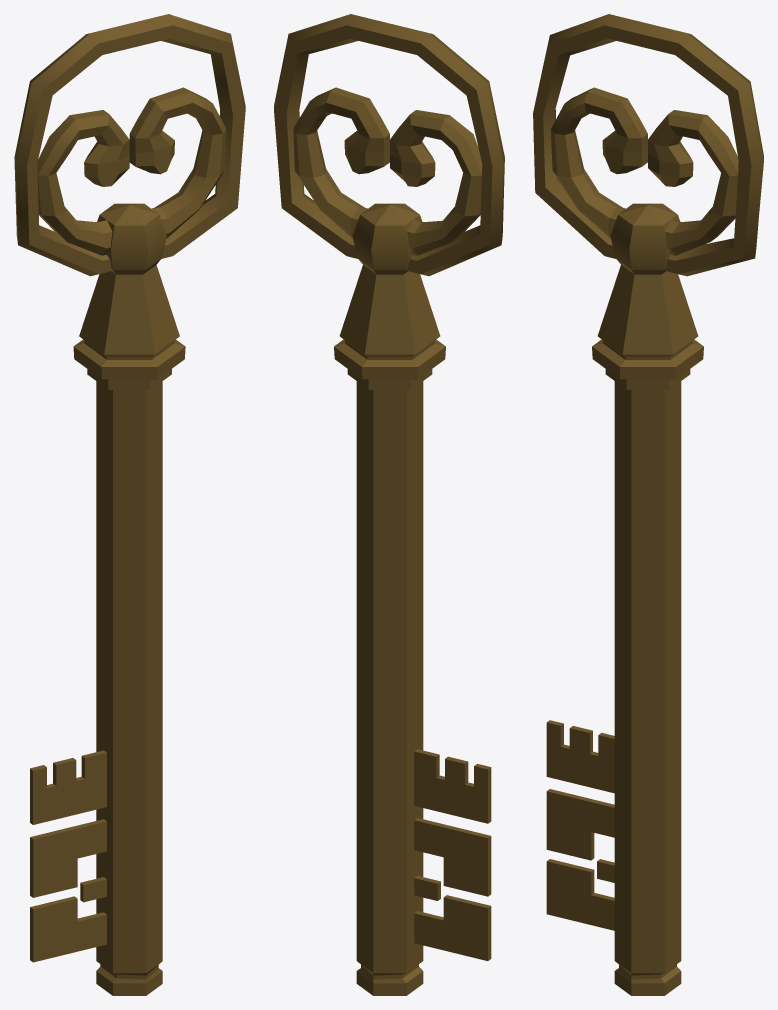
Rendered from Rusty Key.fbx.
3 views of the same model, side by side, from view 1: azimuth 30°, elevation 25°; view 2: azimuth 150°, elevation 25°; view 3: azimuth 330°, elevation 25° (orthographic).
Parts seen in each view (by area): view 1: Key_Body, Key_Ring, Key_Heart, Key_Hilt, Key_Lock1, Key_Lock7, Key_Lock2, Key_HiltSphere, Key_Lock3; view 2: Key_Body, Key_Ring, Key_Heart, Key_Hilt, Key_Lock1, Key_Lock7, Key_Lock2, Key_HiltSphere, Key_Lock3; view 3: Key_Body, Key_Ring, Key_Heart, Key_Hilt, Key_Lock1, Key_Lock7, Key_HiltSphere, Key_Lock2.
Boxes of the visible parts, left/top/right/bottom form: Key_Body: left=96, top=381, right=162, bottom=995; Key_Ring: left=14, top=14, right=245, bottom=276; Key_Heart: left=37, top=87, right=225, bottom=255; Key_Hilt: left=73, top=265, right=185, bottom=389; Key_Lock1: left=30, top=750, right=106, bottom=824; Key_Lock7: left=30, top=819, right=106, bottom=897; Key_Lock2: left=30, top=896, right=106, bottom=962; Key_HiltSphere: left=97, top=203, right=166, bottom=274; Key_Lock3: left=80, top=877, right=106, bottom=902; Key_Body: left=356, top=381, right=423, bottom=995; Key_Ring: left=274, top=14, right=504, bottom=276; Key_Heart: left=293, top=87, right=482, bottom=255; Key_Hilt: left=334, top=265, right=445, bottom=389; Key_Lock1: left=414, top=749, right=491, bottom=823; Key_Lock7: left=414, top=818, right=491, bottom=896; Key_Lock2: left=414, top=895, right=491, bottom=960; Key_HiltSphere: left=352, top=203, right=422, bottom=274; Key_Lock3: left=414, top=876, right=440, bottom=900; Key_Body: left=614, top=381, right=681, bottom=995; Key_Ring: left=533, top=14, right=763, bottom=276; Key_Heart: left=550, top=87, right=738, bottom=255; Key_Hilt: left=592, top=265, right=703, bottom=389; Key_Lock1: left=546, top=720, right=614, bottom=793; Key_Lock7: left=546, top=789, right=614, bottom=860; Key_HiltSphere: left=610, top=203, right=680, bottom=274; Key_Lock2: left=546, top=859, right=614, bottom=930.
Bounding box in the file's own units: 1.49 × 5.99 × 0.6299.
